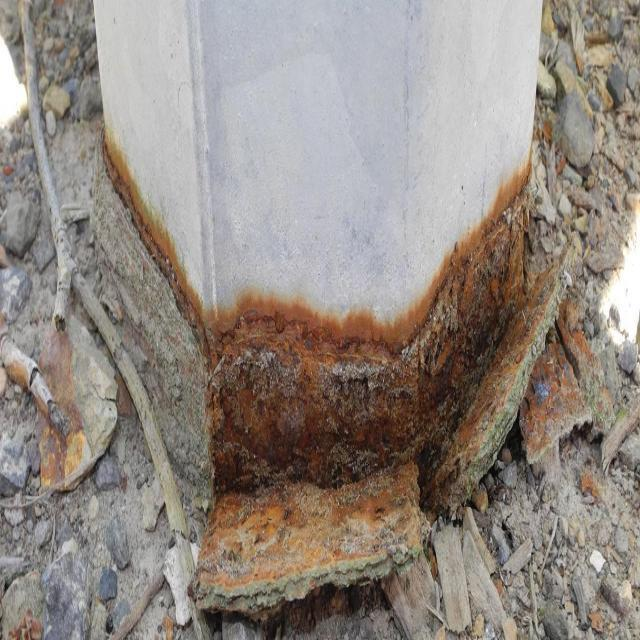Corrosion: (93, 123, 531, 497)
